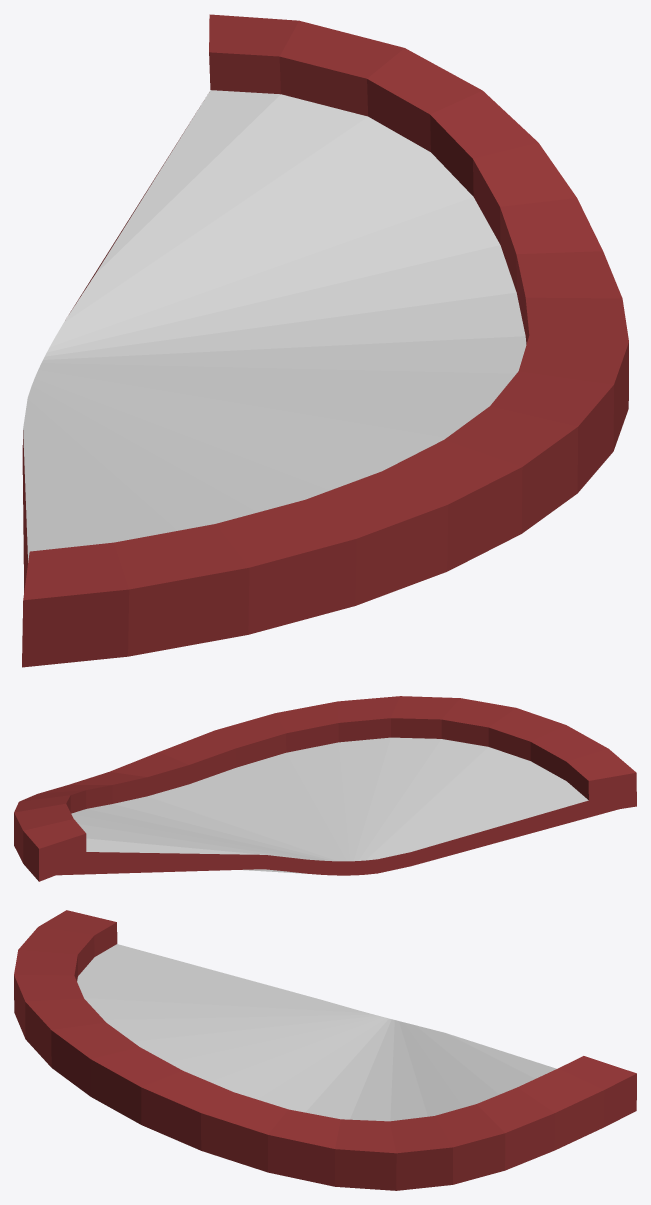
File: 破损标识 (5).fbx
3 views of the same model, one above another, from view 1: azimuth 30°, elevation 25°; view 2: azimuth 150°, elevation 25°; view 3: azimuth 270°, elevation 25° (orthographic). The views are drawn at different scales.
Parts seen in each view (by area): view 1: Cylinder.026; view 2: Cylinder.026; view 3: Cylinder.026.
Boxes of the visible parts, x1=… form: Cylinder.026: x1=22, y1=14, x2=628, y2=667; Cylinder.026: x1=14, y1=696, x2=636, y2=881; Cylinder.026: x1=14, y1=910, x2=636, y2=1190.
Bounding box in the file's own units: 1.45 × 0.238 × 1.61.
